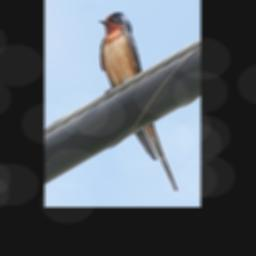Swallow: (98, 10, 178, 191)
